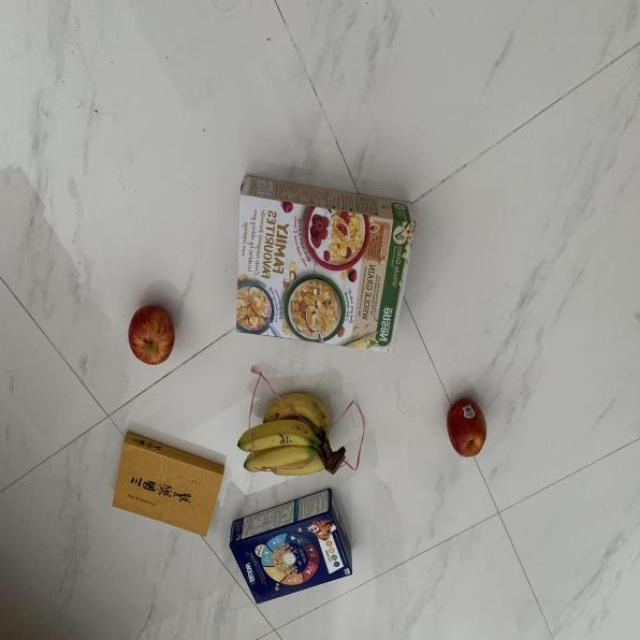Apple: (435, 384, 511, 475), (122, 302, 181, 372)
Banana: (237, 376, 372, 483)
Book: (103, 426, 223, 544)
Cerealbox: (232, 161, 422, 366), (224, 481, 366, 613)
